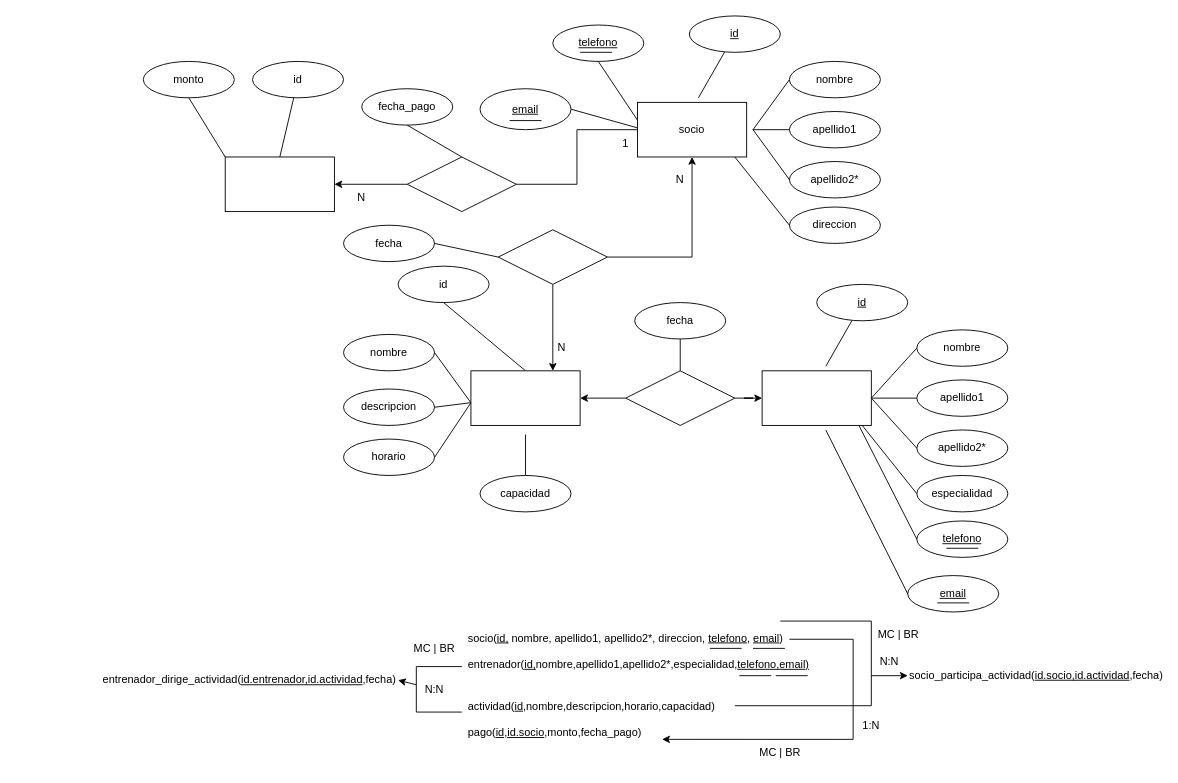
The diagram is 1178 pixels wide and 783 high, and some of its shapes have lost their labels. The box of each missing label's shape, as (x1, y1, x2, y2) in pixels:
actividad: (470, 370, 580, 425)
dirige: (625, 370, 735, 425)
entrenador: (761, 370, 871, 425)
pago: (224, 156, 334, 212)
participa: (497, 229, 607, 284)
realiza: (406, 156, 516, 212)
